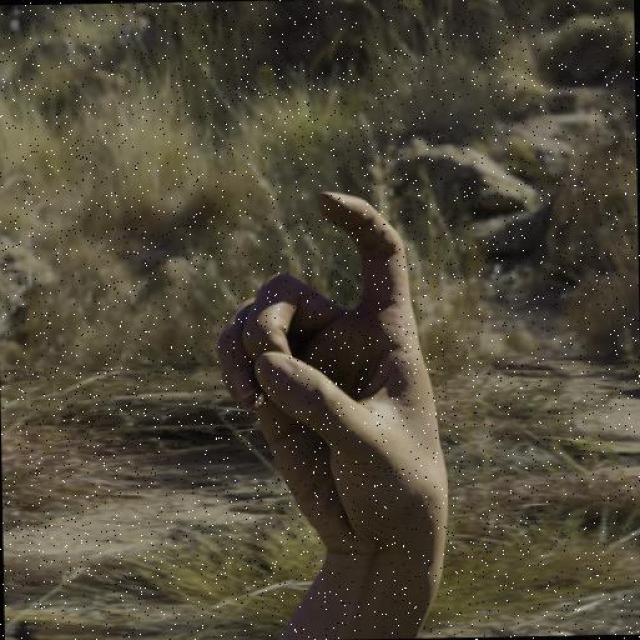X: (209, 182, 455, 569)
